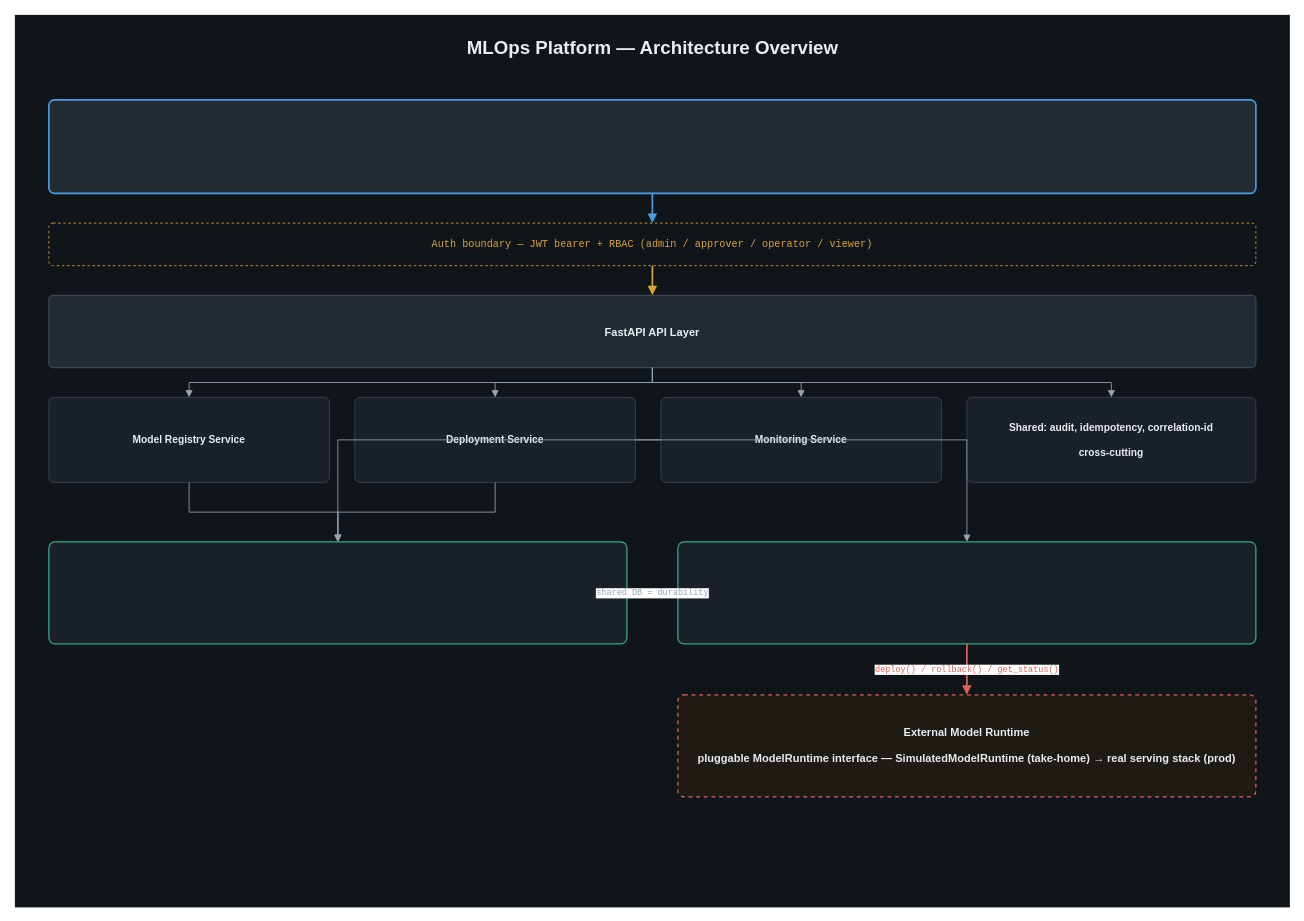
This 1304x921 diagram has some shape labels left out. Here are the shapes that lost their labels. From the top down, the box of each, then its label:
(48, 99, 1256, 194): Angular UI
(48, 541, 627, 644): Repository / ORM (SQLAlchemy) SQLite (dev, default) · PostgreSQL (prod, ADR-002)
(677, 541, 1256, 644): Async Worker (asyncio) — ADR-001
